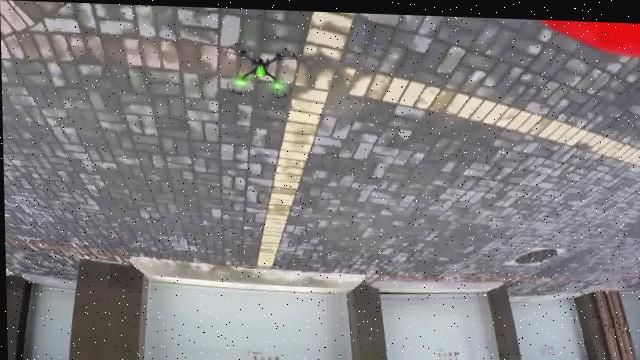drone: (217, 35, 300, 108)
